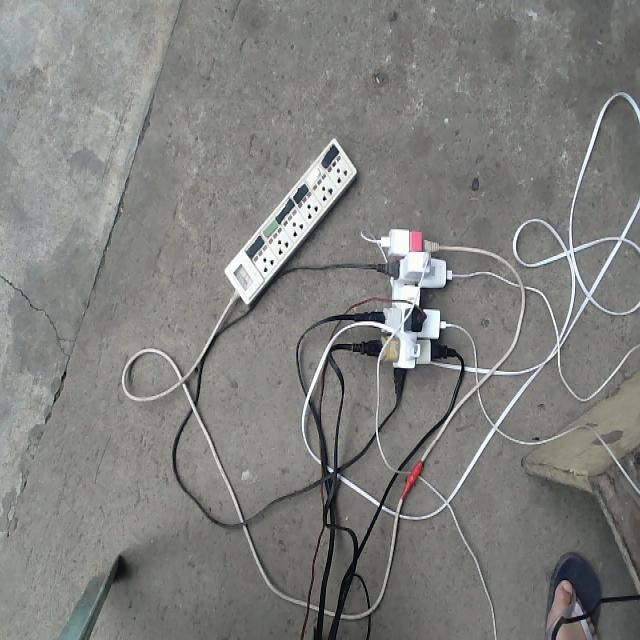-: (366, 223, 455, 376)
